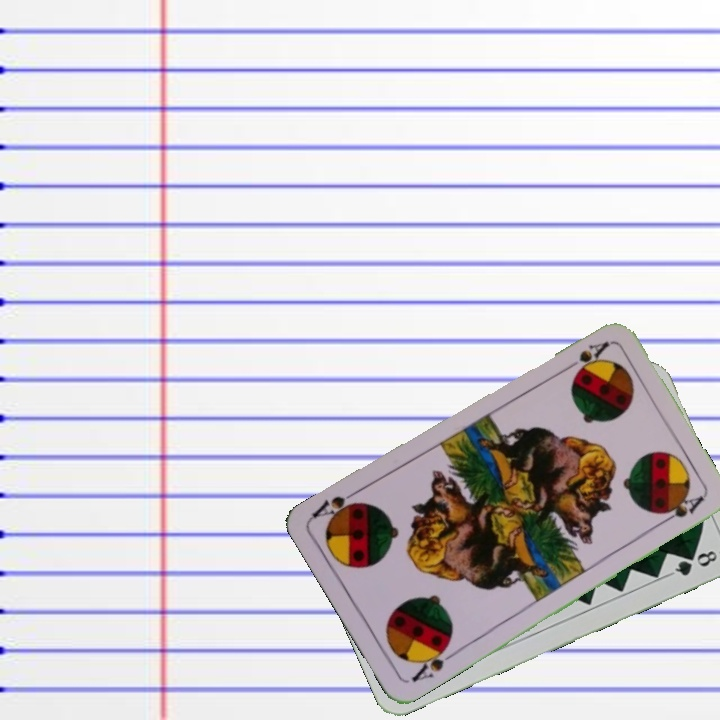SA: (407, 639, 459, 685), (558, 337, 612, 377)
